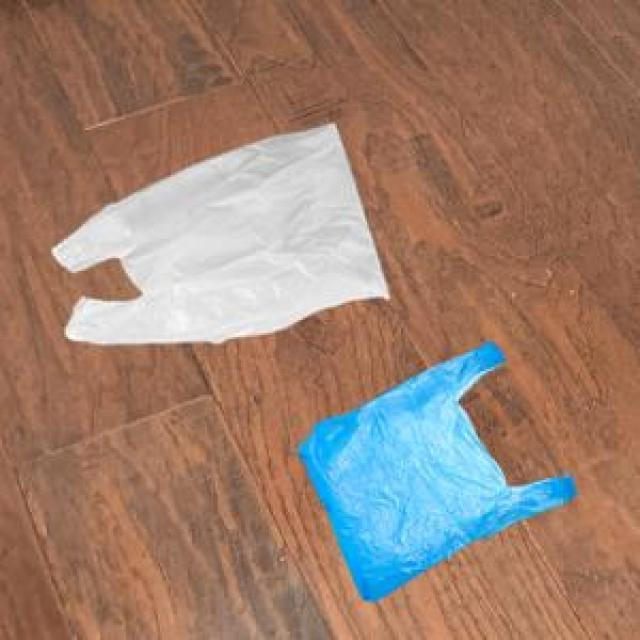waste: (54, 126, 387, 344), (300, 342, 578, 601)
